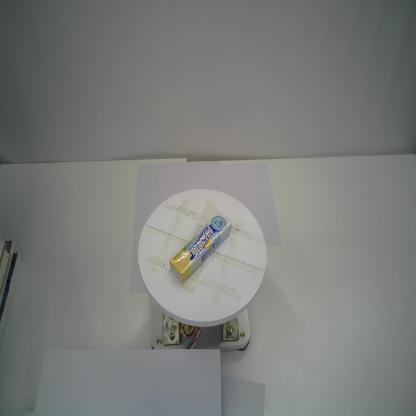Candy: (169, 212, 232, 282)
